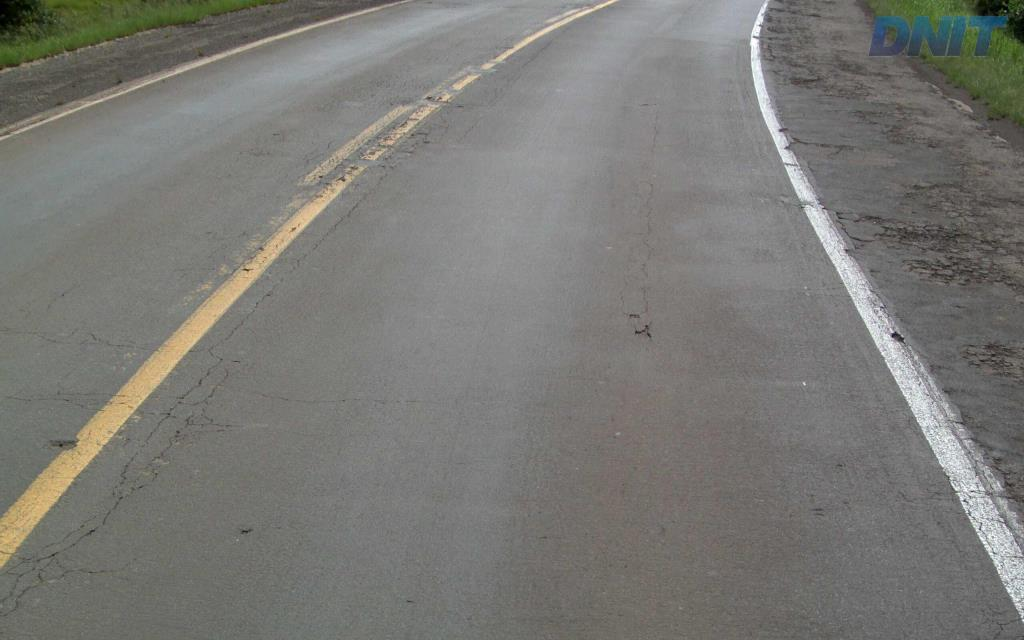pothole: (630, 320, 659, 341)
